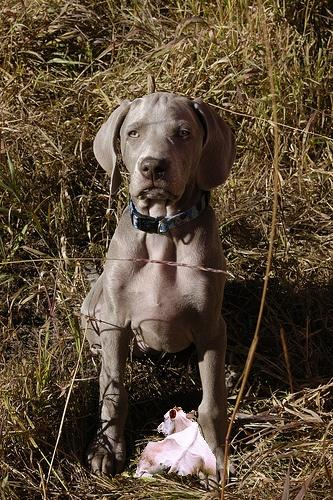tampered: (128, 407, 216, 477)
